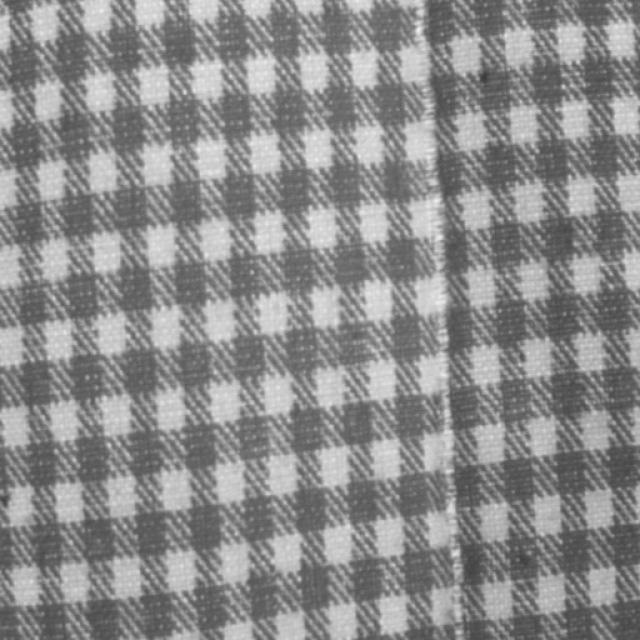Thread-Defect: (408, 5, 465, 639)
